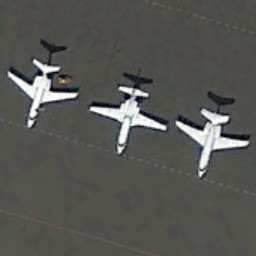Airplane: (173, 98, 254, 190), (86, 76, 171, 162), (3, 49, 80, 135)
